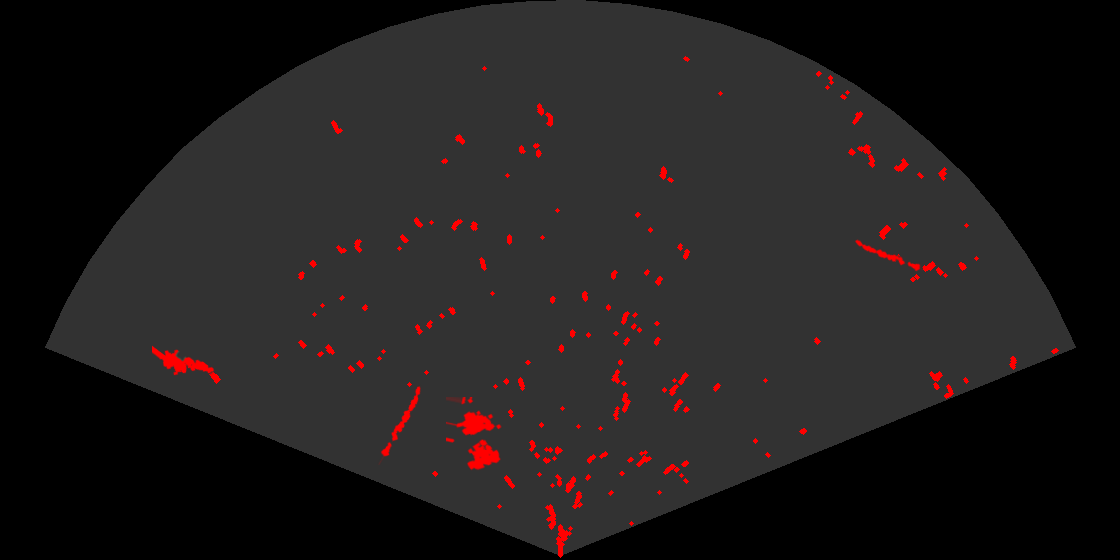cage: (446, 397, 503, 472)
chain: (377, 384, 422, 465), (853, 238, 923, 273)
frogman: (152, 344, 216, 377)
